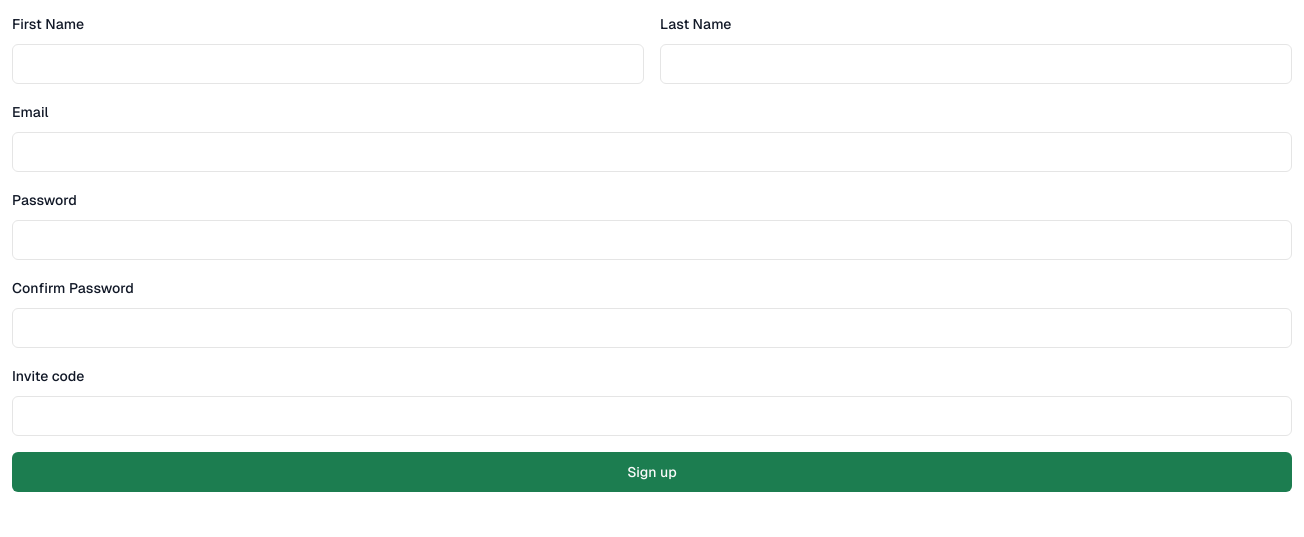
Test: SignupForm › shows validation error for password that doesn't meet requirements
Note: Fill in all fields but with a weak password
In the field labelled "First Name": (328, 64) x1=12 y1=44 x2=644 y2=84, type "John"
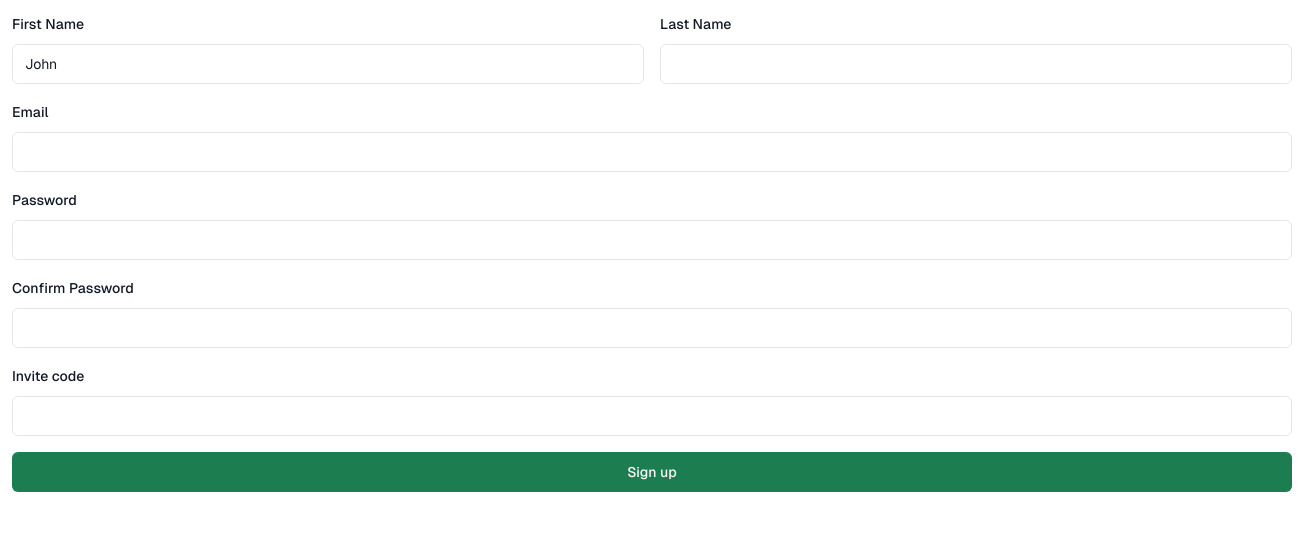
In the field labelled "Last Name": (976, 64) x1=660 y1=44 x2=1292 y2=84, type "Doe"
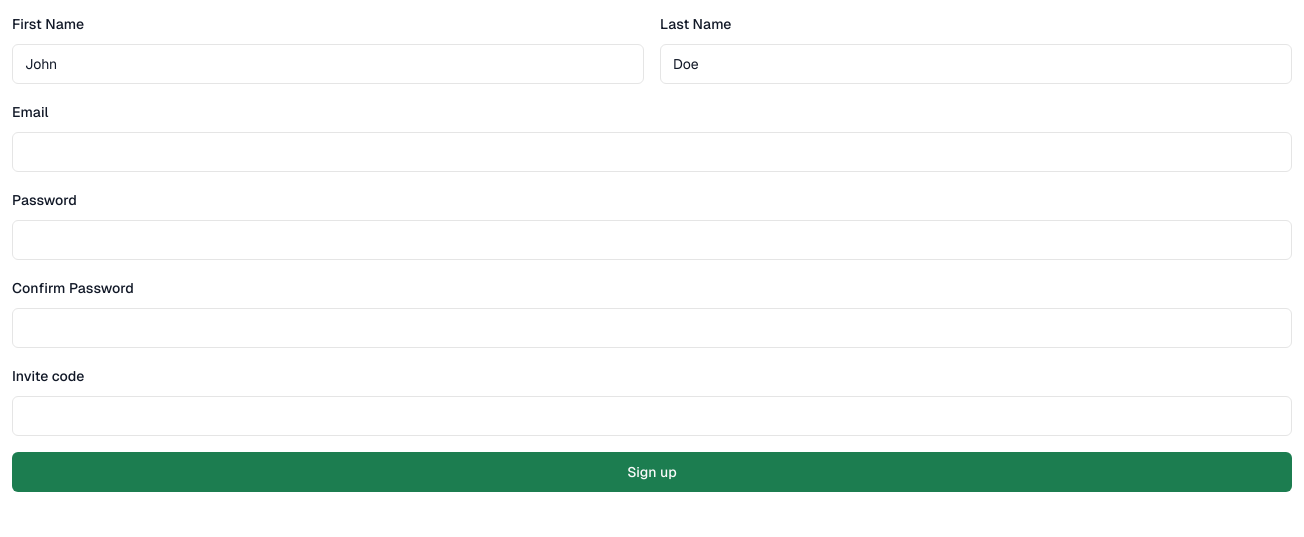
In the field labelled "Email": (652, 152) x1=12 y1=132 x2=1292 y2=172, type "john.doe@example.com"
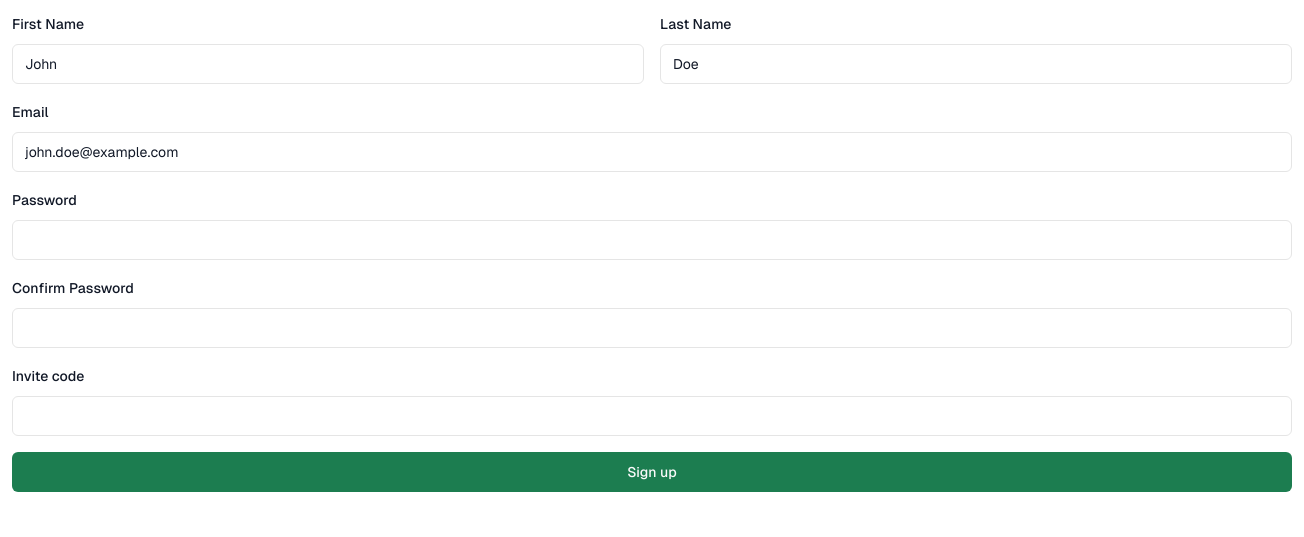
In the password field labelled "Password": (652, 240) x1=12 y1=220 x2=1292 y2=260, type "weak"
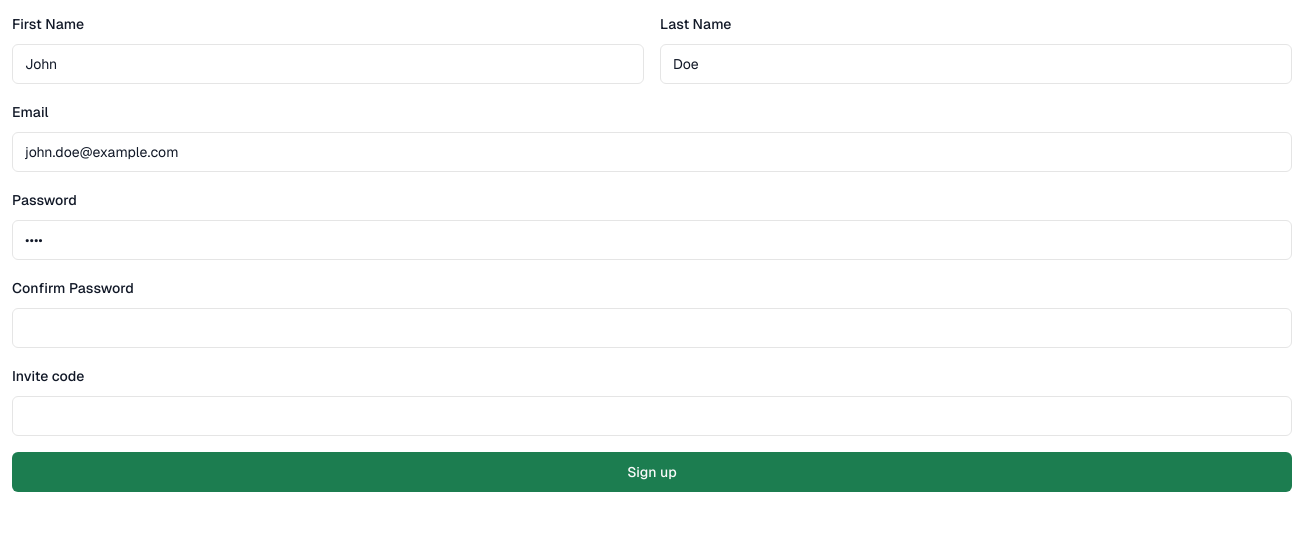
In the password field labelled "Confirm Password": (652, 328) x1=12 y1=308 x2=1292 y2=348, type "weak"
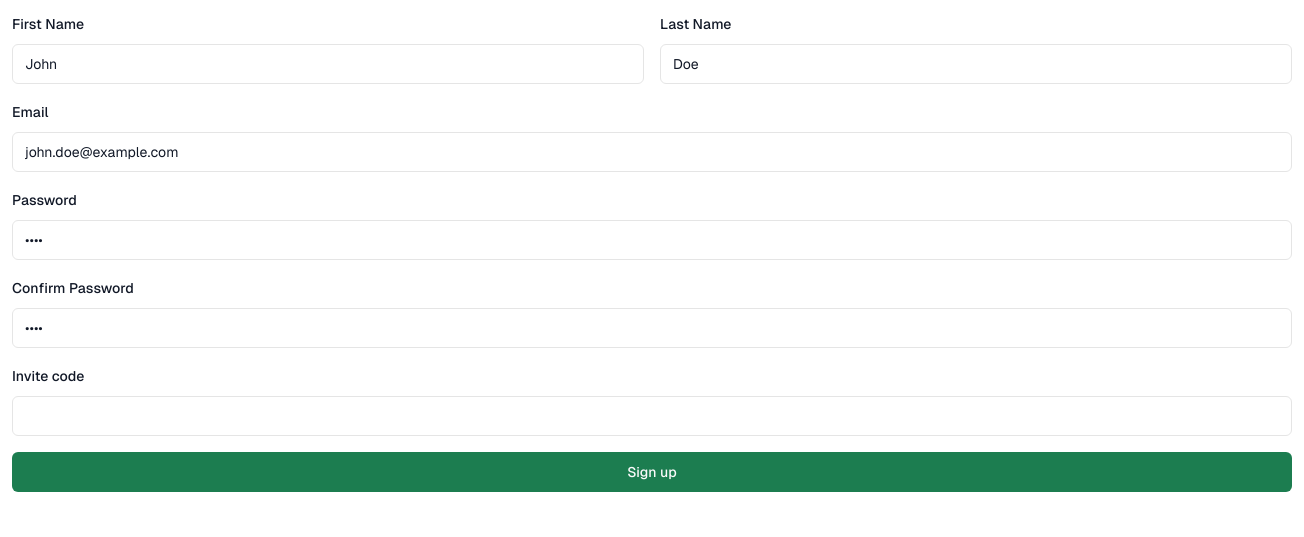
Note: Submit the form
Click the button "Sign up": (652, 472) x1=12 y1=452 x2=1292 y2=492
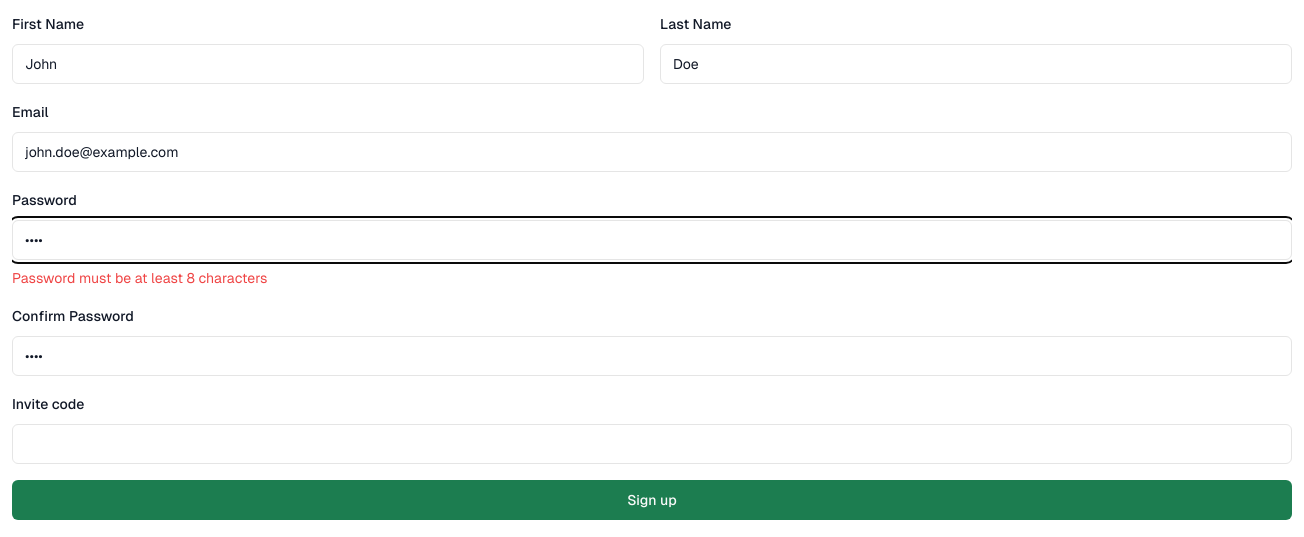
Now the text with test id "password-error" reads "Password must be at least 8 characters", box x1=12 y1=269 x2=268 y2=287
